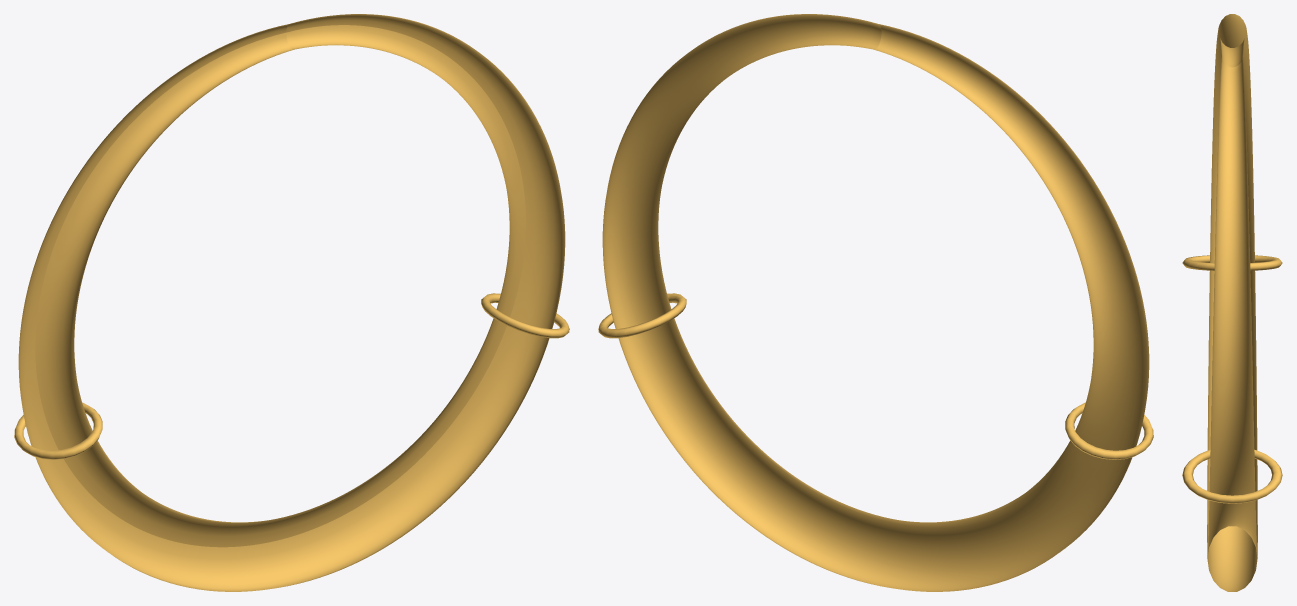
Rendered from hoop-gold.glb.
The picture shows the model from 3 angles, left to right: view 1: azimuth 30°, elevation 25°; view 2: azimuth 150°, elevation 25°; view 3: azimuth 270°, elevation 25°; orthographic projection. The views are drawn at different scales.
Parts seen in each view (by area): view 1: hoop-gold_gold22k; view 2: hoop-gold_gold22k; view 3: hoop-gold_gold22k.
Boxes of the visible parts, box(x1,y1,x2,y2) form: hoop-gold_gold22k: box(14, 14, 569, 591); hoop-gold_gold22k: box(598, 14, 1153, 591); hoop-gold_gold22k: box(1182, 14, 1282, 591).
Size of the model in its own units: 2.76 by 2.72 by 0.475.
